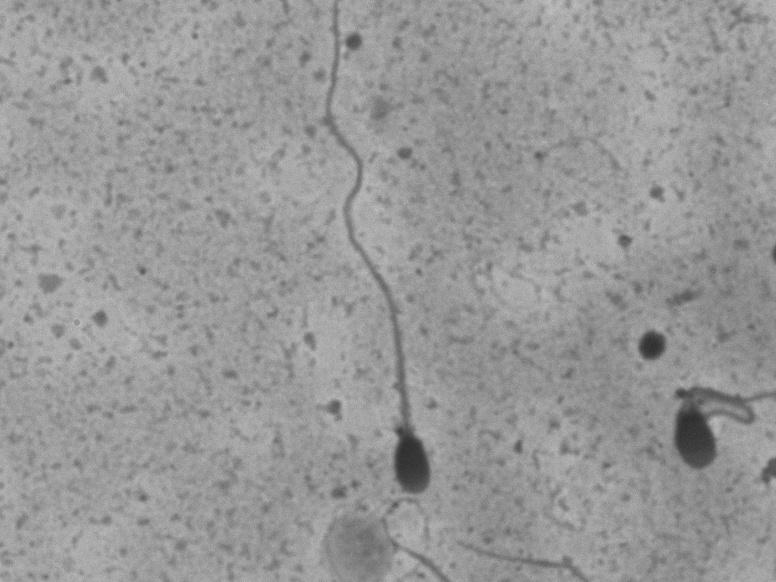Abnormal: (635, 339, 760, 514)
Normal: (298, 20, 468, 501)
